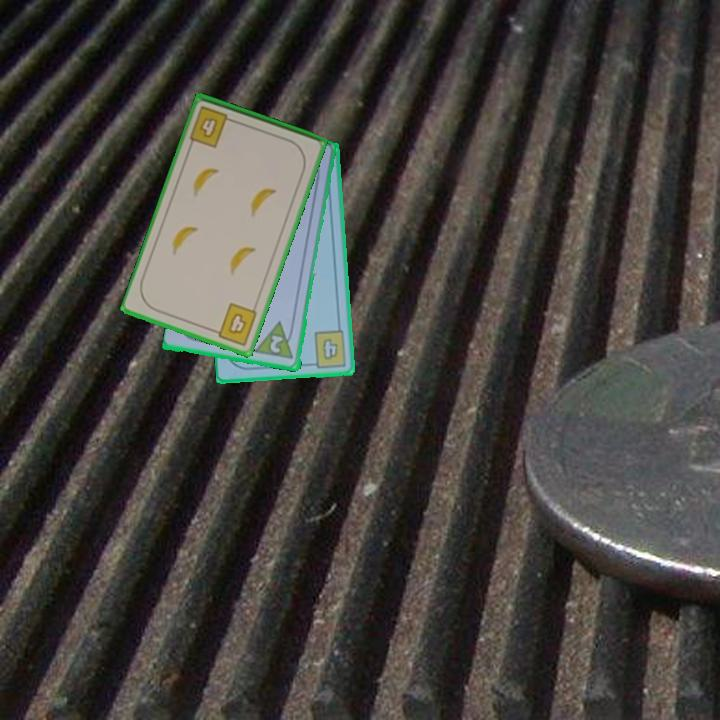2p: (266, 332, 286, 356)
4b: (208, 299, 260, 349), (186, 103, 239, 151), (306, 327, 350, 370)
